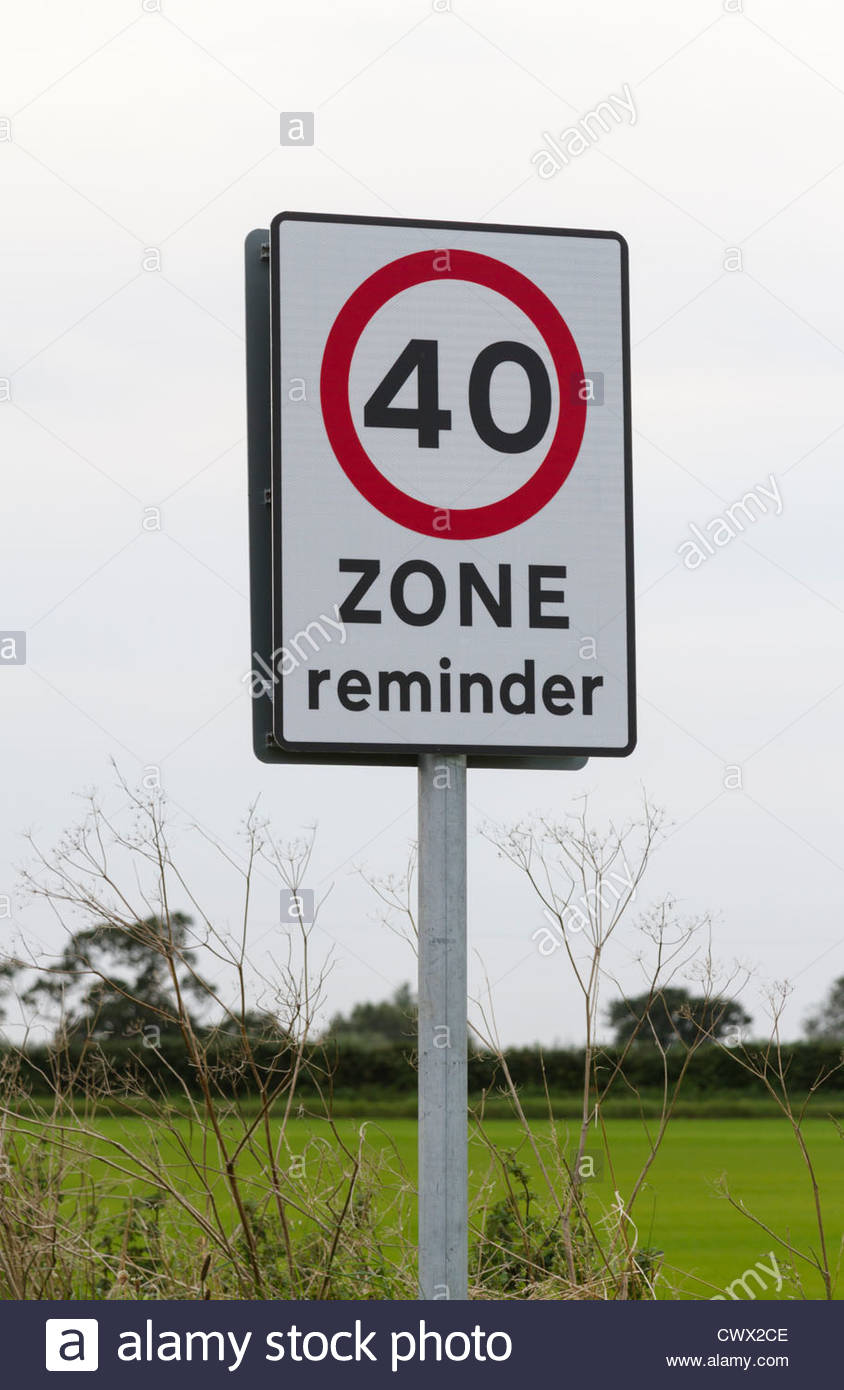Speed_limit_40km: (316, 245, 590, 548)
